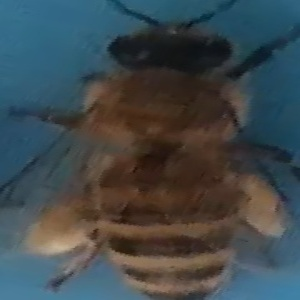bee: (27, 1, 297, 299)
